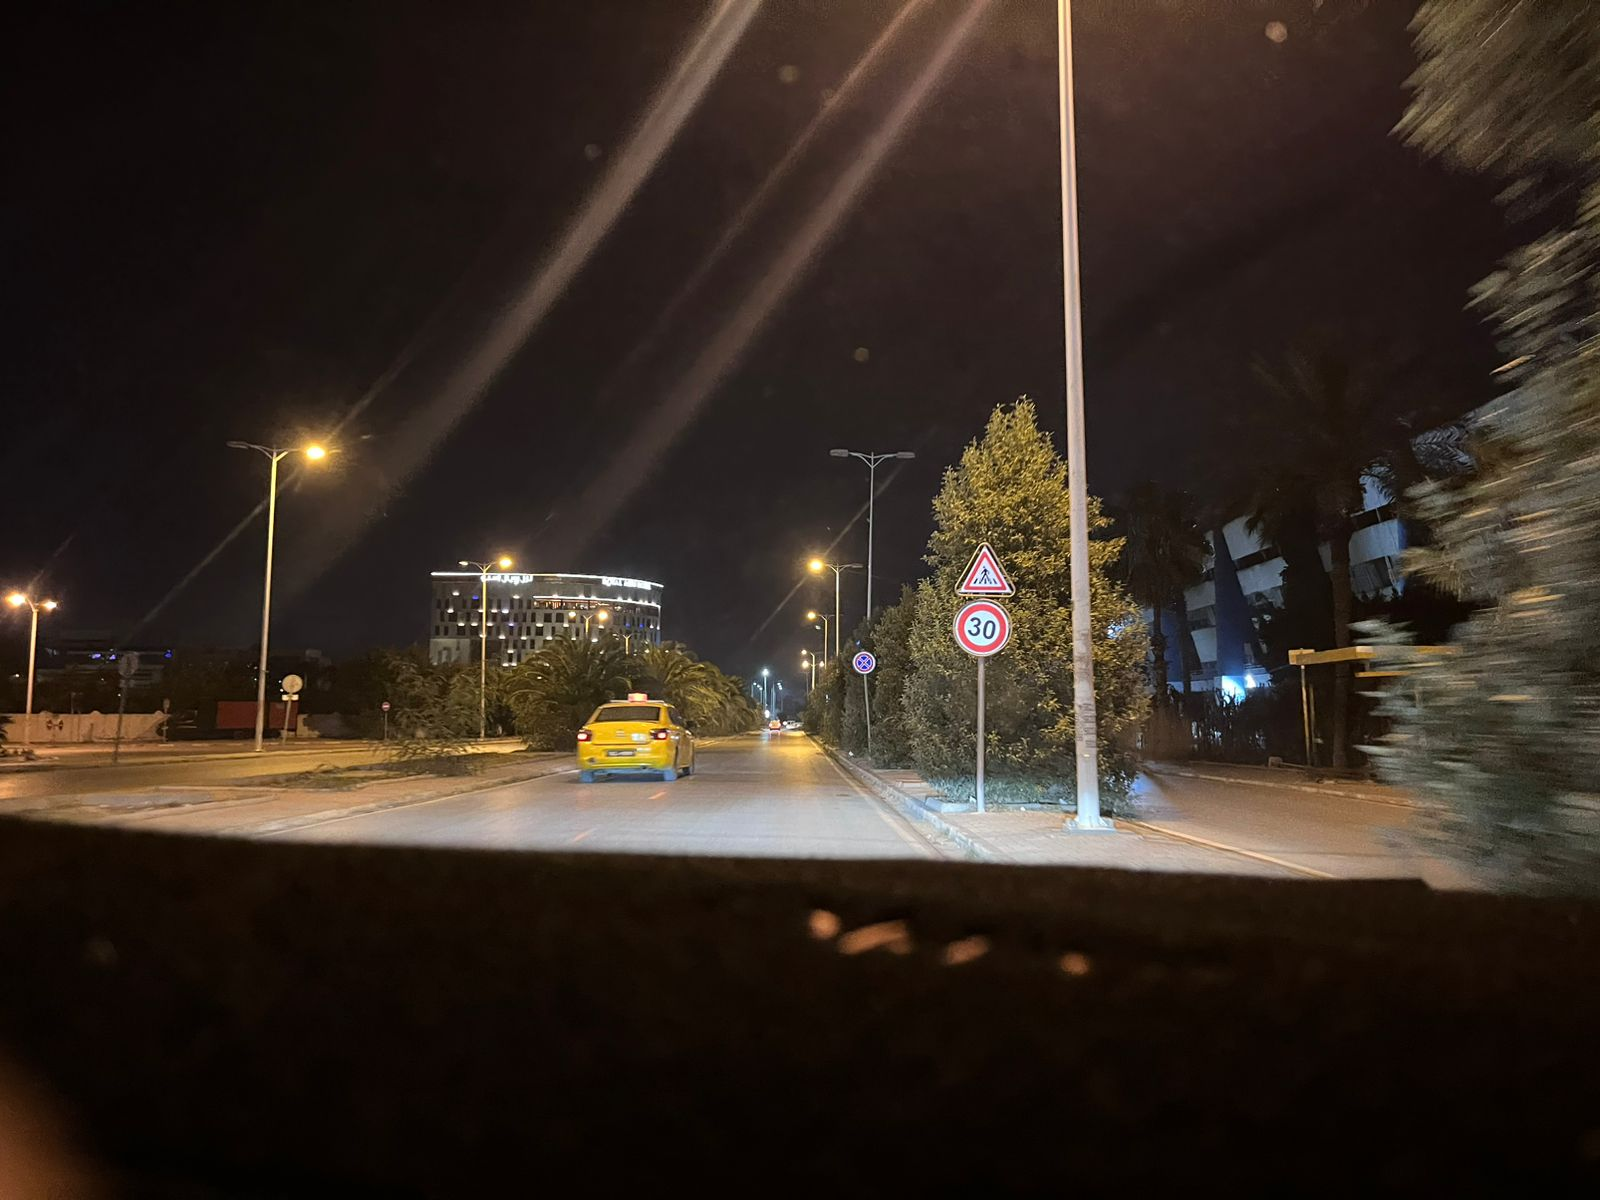SpeedLimit30: (952, 599, 1013, 657)
